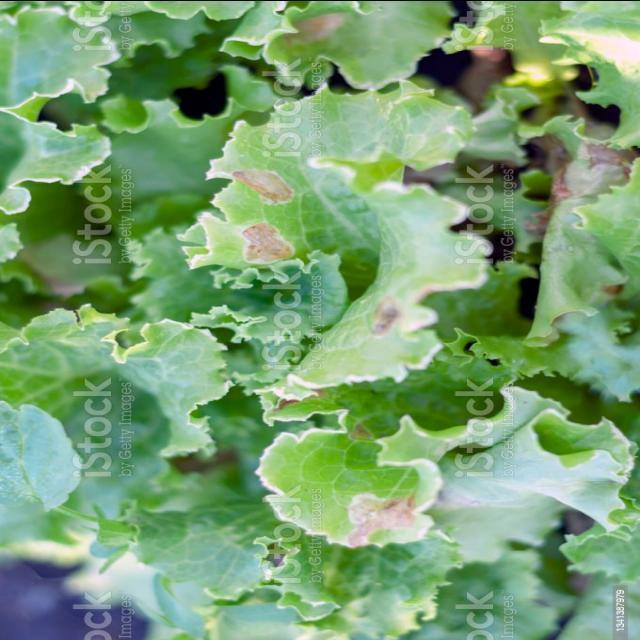Baby: (221, 93, 443, 381), (260, 433, 446, 549)
